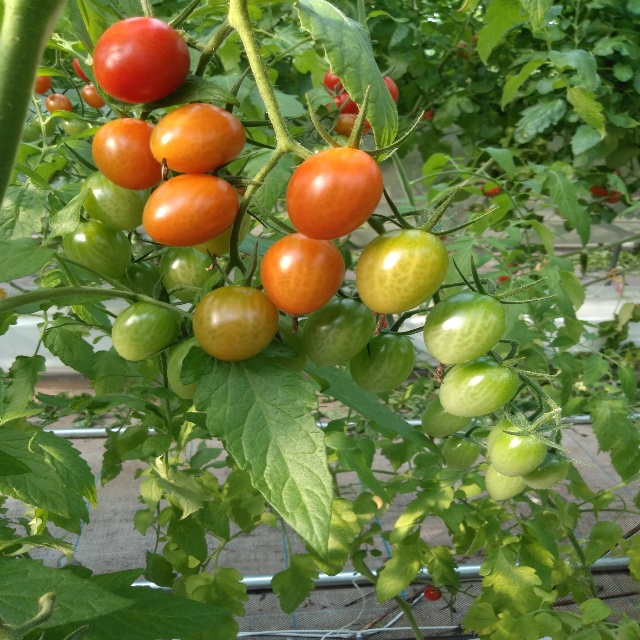l_fully_ripened: (91, 17, 191, 104), (323, 69, 348, 96), (327, 94, 359, 115), (424, 586, 443, 601)
l_green: (423, 291, 506, 364), (302, 297, 375, 368), (438, 355, 519, 418), (111, 299, 181, 361), (81, 169, 152, 230), (64, 219, 133, 281), (351, 330, 415, 394), (191, 192, 251, 257), (159, 246, 220, 304), (262, 309, 310, 374), (488, 425, 547, 477), (485, 414, 539, 457), (168, 334, 202, 399), (420, 395, 472, 437), (117, 260, 165, 305), (523, 450, 568, 490), (485, 462, 528, 500), (441, 435, 480, 471), (60, 113, 88, 138), (32, 112, 56, 137), (22, 122, 40, 143)
l_half_ripened: (286, 148, 383, 241), (355, 228, 449, 314), (143, 173, 239, 248), (260, 232, 345, 316), (149, 102, 246, 174), (193, 284, 279, 362), (92, 118, 170, 191), (334, 113, 368, 137), (44, 93, 73, 119), (81, 82, 106, 109), (34, 76, 51, 94)
